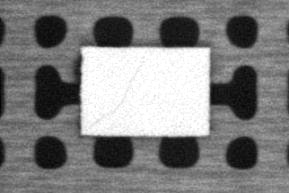DIE_CRACK: (88, 55, 146, 130)
